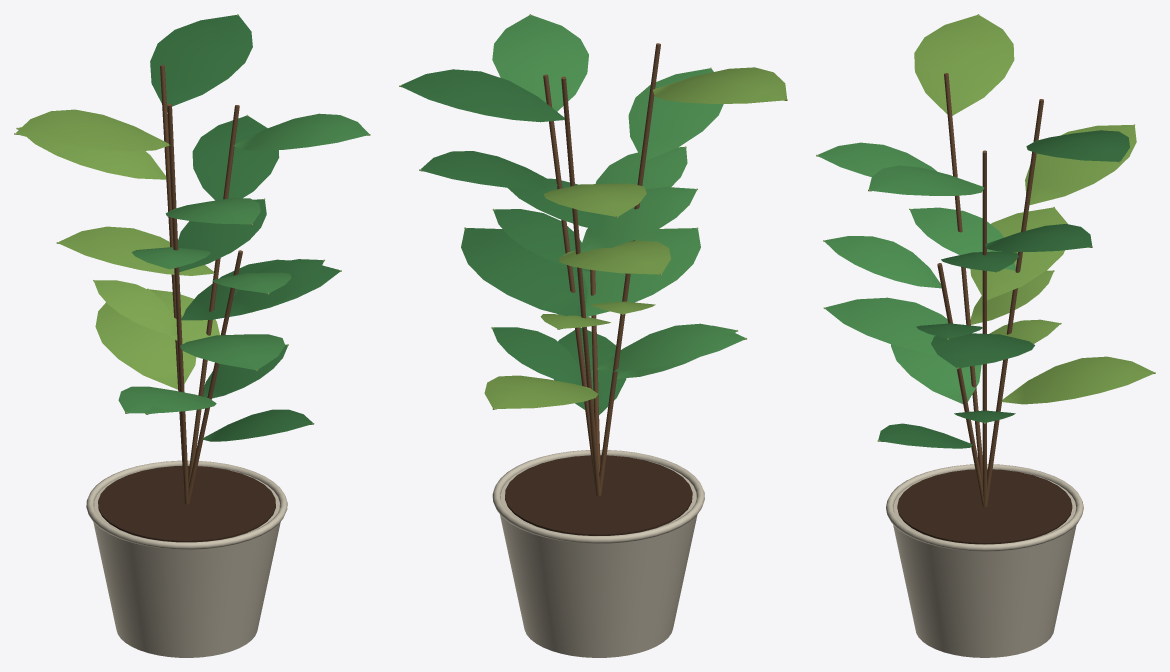
The model's file is reserve-top-plant.glb.
The picture shows the model from 3 angles, left to right: view 1: azimuth 30°, elevation 25°; view 2: azimuth 150°, elevation 25°; view 3: azimuth 270°, elevation 25°; orthographic projection. The views are drawn at different scales.
Visible parts, largest first — view 1: part::reserve-top-plant/thrown-ceramic-planter-001, part::reserve-top-plant/dark-potting-mix-001, part::reserve-top-plant/folded-broad-leaf-015, part::reserve-top-plant/folded-broad-leaf-004, part::reserve-top-plant/folded-broad-leaf-011, part::reserve-top-plant/folded-broad-leaf-010, part::reserve-top-plant/folded-broad-leaf-003, part::reserve-top-plant/planter-rounded-lip-001, part::reserve-top-plant/folded-broad-leaf-005, part::reserve-top-plant/folded-broad-leaf-002, part::reserve-top-plant/folded-broad-leaf-008, part::reserve-top-plant/folded-broad-leaf-007 (+14 smaller); view 2: part::reserve-top-plant/thrown-ceramic-planter-001, part::reserve-top-plant/dark-potting-mix-001, part::reserve-top-plant/folded-broad-leaf-012, part::reserve-top-plant/folded-broad-leaf-005, part::reserve-top-plant/folded-broad-leaf-015, part::reserve-top-plant/folded-broad-leaf-009, part::reserve-top-plant/folded-broad-leaf-002, part::reserve-top-plant/folded-broad-leaf-010, part::reserve-top-plant/folded-broad-leaf-017, part::reserve-top-plant/planter-rounded-lip-001, part::reserve-top-plant/folded-broad-leaf-013, part::reserve-top-plant/folded-broad-leaf-004 (+14 smaller); view 3: part::reserve-top-plant/thrown-ceramic-planter-001, part::reserve-top-plant/dark-potting-mix-001, part::reserve-top-plant/folded-broad-leaf-010, part::reserve-top-plant/folded-broad-leaf-011, part::reserve-top-plant/folded-broad-leaf-002, part::reserve-top-plant/folded-broad-leaf-014, part::reserve-top-plant/folded-broad-leaf-020, part::reserve-top-plant/planter-rounded-lip-001, part::reserve-top-plant/folded-broad-leaf-003, part::reserve-top-plant/folded-broad-leaf-013, part::reserve-top-plant/folded-broad-leaf-005, part::reserve-top-plant/folded-broad-leaf-012 (+14 smaller).
Boxes of the visible parts, bbox=[...] form: part::reserve-top-plant/thrown-ceramic-planter-001: bbox=[93, 468, 280, 657]; part::reserve-top-plant/dark-potting-mix-001: bbox=[98, 466, 275, 542]; part::reserve-top-plant/folded-broad-leaf-015: bbox=[150, 15, 252, 107]; part::reserve-top-plant/folded-broad-leaf-004: bbox=[192, 115, 279, 200]; part::reserve-top-plant/folded-broad-leaf-011: bbox=[95, 302, 196, 389]; part::reserve-top-plant/folded-broad-leaf-010: bbox=[16, 109, 169, 151]; part::reserve-top-plant/folded-broad-leaf-003: bbox=[58, 226, 214, 275]; part::reserve-top-plant/planter-rounded-lip-001: bbox=[86, 460, 287, 549]; part::reserve-top-plant/folded-broad-leaf-005: bbox=[233, 113, 368, 150]; part::reserve-top-plant/folded-broad-leaf-002: bbox=[180, 334, 285, 369]; part::reserve-top-plant/folded-broad-leaf-008: bbox=[178, 199, 266, 271]; part::reserve-top-plant/folded-broad-leaf-007: bbox=[94, 280, 177, 336]; part::reserve-top-plant/thrown-ceramic-planter-001: bbox=[500, 456, 697, 657]; part::reserve-top-plant/dark-potting-mix-001: bbox=[505, 455, 692, 535]; part::reserve-top-plant/folded-broad-leaf-012: bbox=[461, 228, 587, 316]; part::reserve-top-plant/folded-broad-leaf-005: bbox=[492, 15, 588, 111]; part::reserve-top-plant/folded-broad-leaf-015: bbox=[401, 69, 564, 122]; part::reserve-top-plant/folded-broad-leaf-009: bbox=[628, 68, 723, 160]; part::reserve-top-plant/folded-broad-leaf-002: bbox=[582, 228, 700, 316]; part::reserve-top-plant/folded-broad-leaf-010: bbox=[653, 67, 786, 103]; part::reserve-top-plant/folded-broad-leaf-017: bbox=[597, 323, 745, 371]; part::reserve-top-plant/planter-rounded-lip-001: bbox=[492, 450, 704, 543]; part::reserve-top-plant/folded-broad-leaf-013: bbox=[580, 187, 696, 252]; part::reserve-top-plant/folded-broad-leaf-004: bbox=[420, 151, 557, 189]; part::reserve-top-plant/thrown-ceramic-planter-001: bbox=[893, 470, 1076, 657]; part::reserve-top-plant/dark-potting-mix-001: bbox=[897, 469, 1072, 544]; part::reserve-top-plant/folded-broad-leaf-010: bbox=[914, 15, 1014, 115]; part::reserve-top-plant/folded-broad-leaf-011: bbox=[1001, 356, 1154, 404]; part::reserve-top-plant/folded-broad-leaf-002: bbox=[825, 297, 948, 354]; part::reserve-top-plant/folded-broad-leaf-014: bbox=[1025, 125, 1136, 204]; part::reserve-top-plant/folded-broad-leaf-020: bbox=[824, 236, 941, 288]; part::reserve-top-plant/planter-rounded-lip-001: bbox=[886, 464, 1083, 551]; part::reserve-top-plant/folded-broad-leaf-003: bbox=[970, 207, 1067, 300]; part::reserve-top-plant/folded-broad-leaf-013: bbox=[910, 207, 1015, 270]; part::reserve-top-plant/folded-broad-leaf-005: bbox=[868, 165, 984, 195]; part::reserve-top-plant/folded-broad-leaf-012: bbox=[931, 333, 1034, 368].
Bounding box in the file's own units: 0.3246 × 0.5354 × 0.3071.
